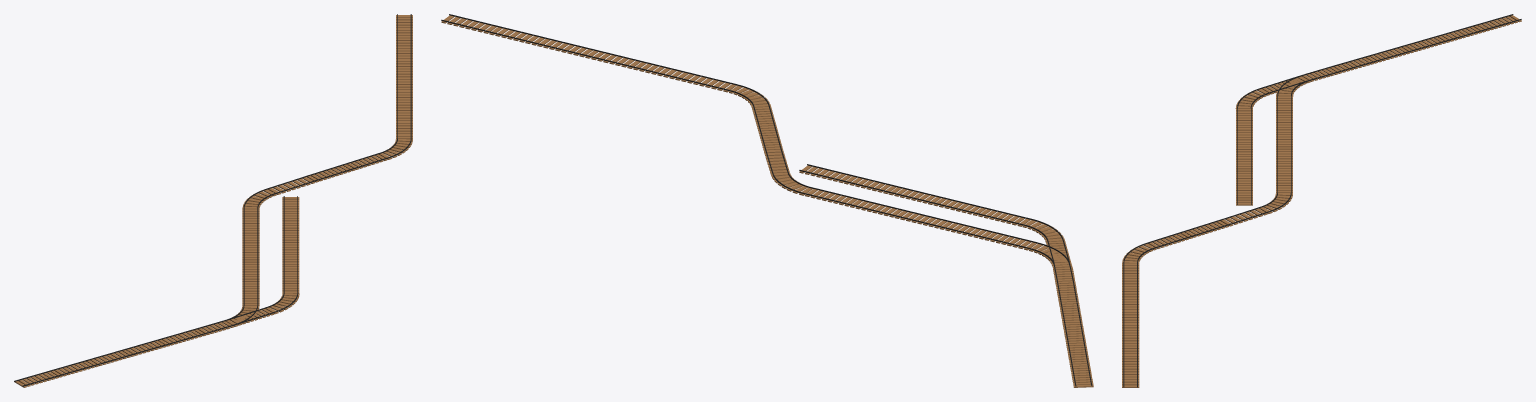
File: mesh_OswiecimTrainTracksSet.fbx
The picture shows the model from 3 angles, left to right: view 1: azimuth 90°, elevation 25°; view 2: azimuth 150°, elevation 25°; view 3: azimuth 270°, elevation 25°; orthographic projection. The views are drawn at different scales.
Parts seen in each view (by area): view 1: TracksStatic, TracksBend; view 2: TracksStatic; view 3: TracksStatic, TracksBend.
Part boxes in pixels (x1,y1,x2,y2): TracksStatic: (14,14,412,387); TracksBend: (268,176,315,194); TracksStatic: (441,14,1093,387); TracksStatic: (1122,14,1521,387); TracksBend: (1220,207,1267,226).
Bounding box in the file's own units: 8982 × 20.14 × 4068.
